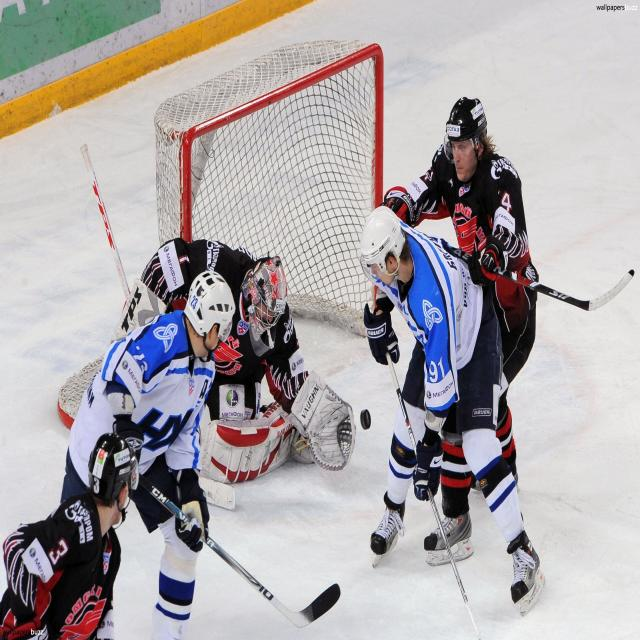body: (373, 94, 541, 572), (358, 200, 548, 622), (58, 268, 236, 640), (140, 237, 310, 423), (0, 430, 144, 639)
